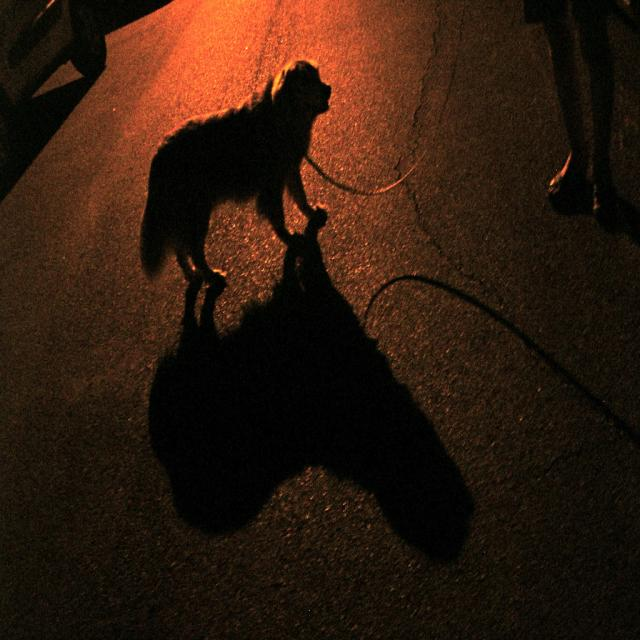Dog: (138, 55, 328, 298)
